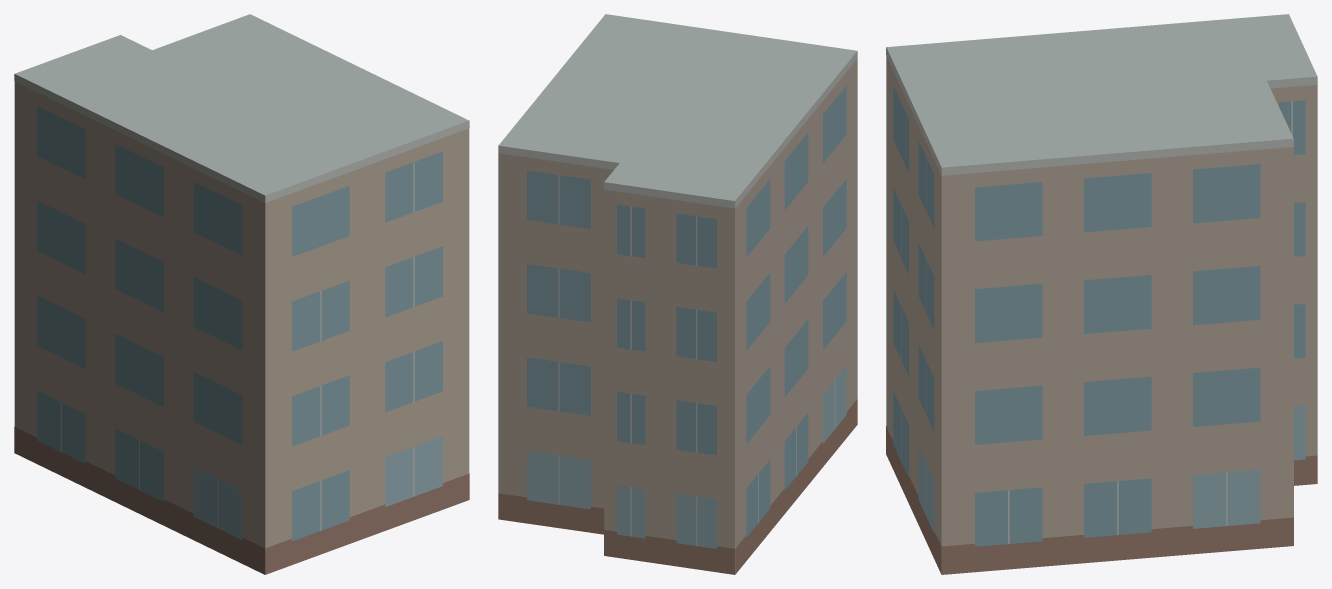
File: residential-323d8372-e4df-4102-80a1-2505577da008.glb
3 renders of one model, left to right at view 1: azimuth 30°, elevation 25°; view 2: azimuth 150°, elevation 25°; view 3: azimuth 270°, elevation 25°, orthographic. The views are drawn at different scales.
Parts seen in each view (by area): view 1: residential-323d8372-e4df-4102-80a1-2505577da008.tmp; view 2: residential-323d8372-e4df-4102-80a1-2505577da008.tmp; view 3: residential-323d8372-e4df-4102-80a1-2505577da008.tmp.
Part boxes in pixels (x1=…): residential-323d8372-e4df-4102-80a1-2505577da008.tmp: x1=14, y1=14, x2=469, y2=574; residential-323d8372-e4df-4102-80a1-2505577da008.tmp: x1=498, y1=14, x2=857, y2=574; residential-323d8372-e4df-4102-80a1-2505577da008.tmp: x1=886, y1=14, x2=1317, y2=574.
Size of the model in its own units: 9.88 by 12.2 by 11.72.
